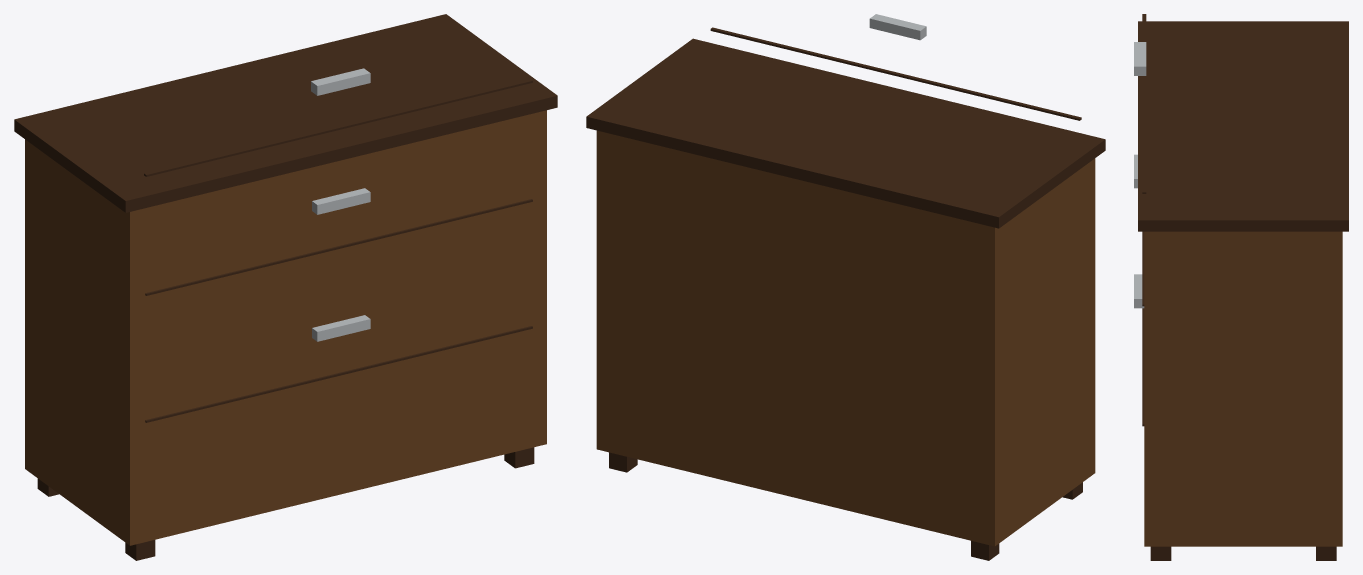
Rendered from dresser.glb.
3 views of the same model, side by side, from view 1: azimuth 30°, elevation 25°; view 2: azimuth 150°, elevation 25°; view 3: azimuth 270°, elevation 25° (orthographic). The views are drawn at different scales.
Visible parts, largest first — view 1: dresser; view 2: dresser; view 3: dresser.
Part boxes in pixels (box(x1,y1,x2,y2)): dresser: box(14, 14, 557, 560); dresser: box(586, 14, 1105, 560); dresser: box(1134, 14, 1348, 560).
Bounding box in the file's own units: 1.14 × 1.11 × 0.52.
